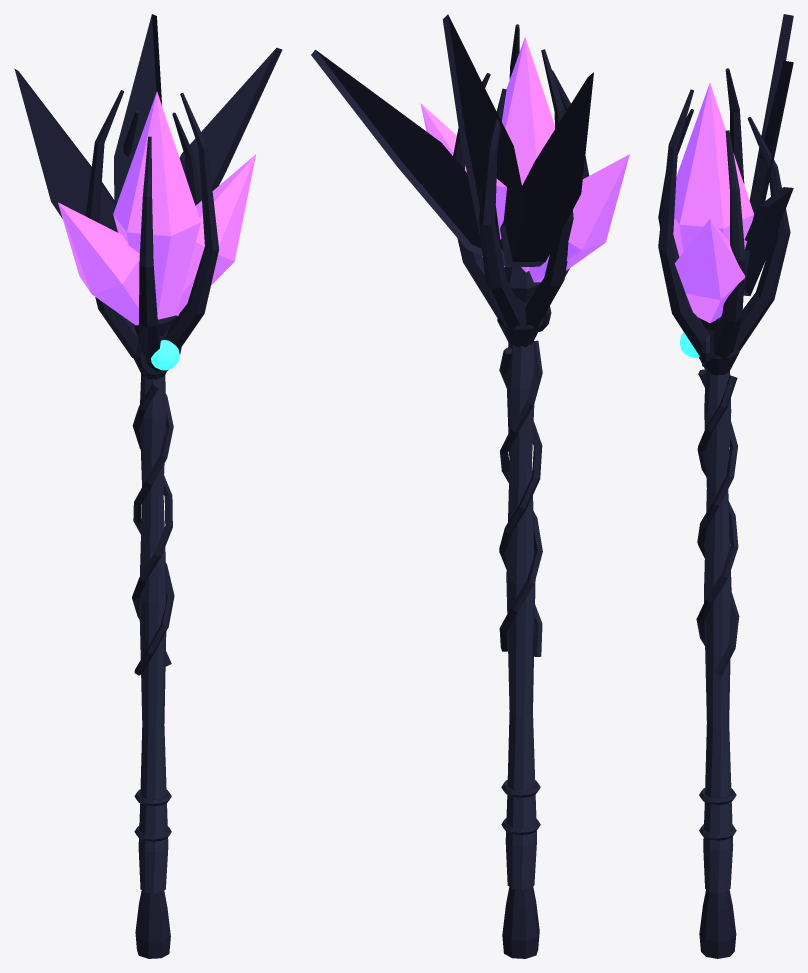
Rendered from staff_duskcrystal.glb.
3 renders of one model, left to right at view 1: azimuth 30°, elevation 25°; view 2: azimuth 150°, elevation 25°; view 3: azimuth 270°, elevation 25°, orthographic. The views are drawn at different scales.
Parts seen in each view (by area): view 1: Dc_Shaft, Dc_Crystal0, Dc_Crystal2, Dc_Back0, Dc_Back2, Dc_Crystal1, Dc_Tendril3, Dc_Back1, Dc_Tendril2, Dc_Tendril1, Dc_Butt, Dc_Creeper1 (+3 smaller); view 2: Dc_Shaft, Dc_Back2, Dc_Back0, Dc_Back1, Dc_Crystal0, Dc_Crystal2, Dc_Tendril0, Dc_Tendril1, Dc_Creeper0, Dc_Butt, Dc_Creeper1, Dc_Tendril4 (+3 smaller); view 3: Dc_Shaft, Dc_Crystal0, Dc_Crystal1, Dc_Tendril3, Dc_Tendril0, Dc_Tendril4, Dc_Back2, Dc_Butt, Dc_Back1, Dc_Creeper1, Dc_Creeper0, Dc_Back0 (+3 smaller).
Boxes of the visible parts, x1,y1,x2,y2 form: Dc_Shaft: (138,374,168,893); Dc_Crystal0: (113,91,200,319); Dc_Crystal2: (58,202,139,325); Dc_Back0: (14,68,116,230); Dc_Back2: (179,47,282,200); Dc_Crystal1: (176,154,256,315); Dc_Tendril3: (165,93,218,350); Dc_Back1: (114,14,161,232); Dc_Tendril2: (139,136,160,364); Dc_Tendril1: (86,90,138,357); Dc_Butt: (135,890,170,958); Dc_Creeper1: (133,394,174,675); Dc_Shaft: (505,341,536,889); Dc_Back2: (311,49,508,266); Dc_Back0: (500,72,593,267); Dc_Back1: (442,14,525,266); Dc_Crystal0: (495,37,554,272); Dc_Crystal2: (529,154,629,282); Dc_Tendril0: (478,88,520,330); Dc_Tendril1: (525,49,573,329); Dc_Creeper0: (499,340,542,651); Dc_Butt: (502,886,539,958); Dc_Creeper1: (499,347,542,656); Dc_Tendril4: (453,73,499,318); Dc_Shaft: (703,371,733,892); Dc_Crystal0: (673,83,753,305); Dc_Crystal1: (674,219,745,322); Dc_Tendril3: (658,89,708,356); Dc_Tendril0: (736,117,790,350); Dc_Tendril4: (713,130,745,360); Dc_Back2: (743,187,793,296); Dc_Butt: (699,889,736,958); Dc_Back1: (744,60,793,289); Dc_Creeper1: (696,375,738,645); Dc_Creeper0: (697,369,739,675); Dc_Back0: (744,14,793,289).
Size of the model in its own units: 0.7804 by 2.55 by 0.3449.
